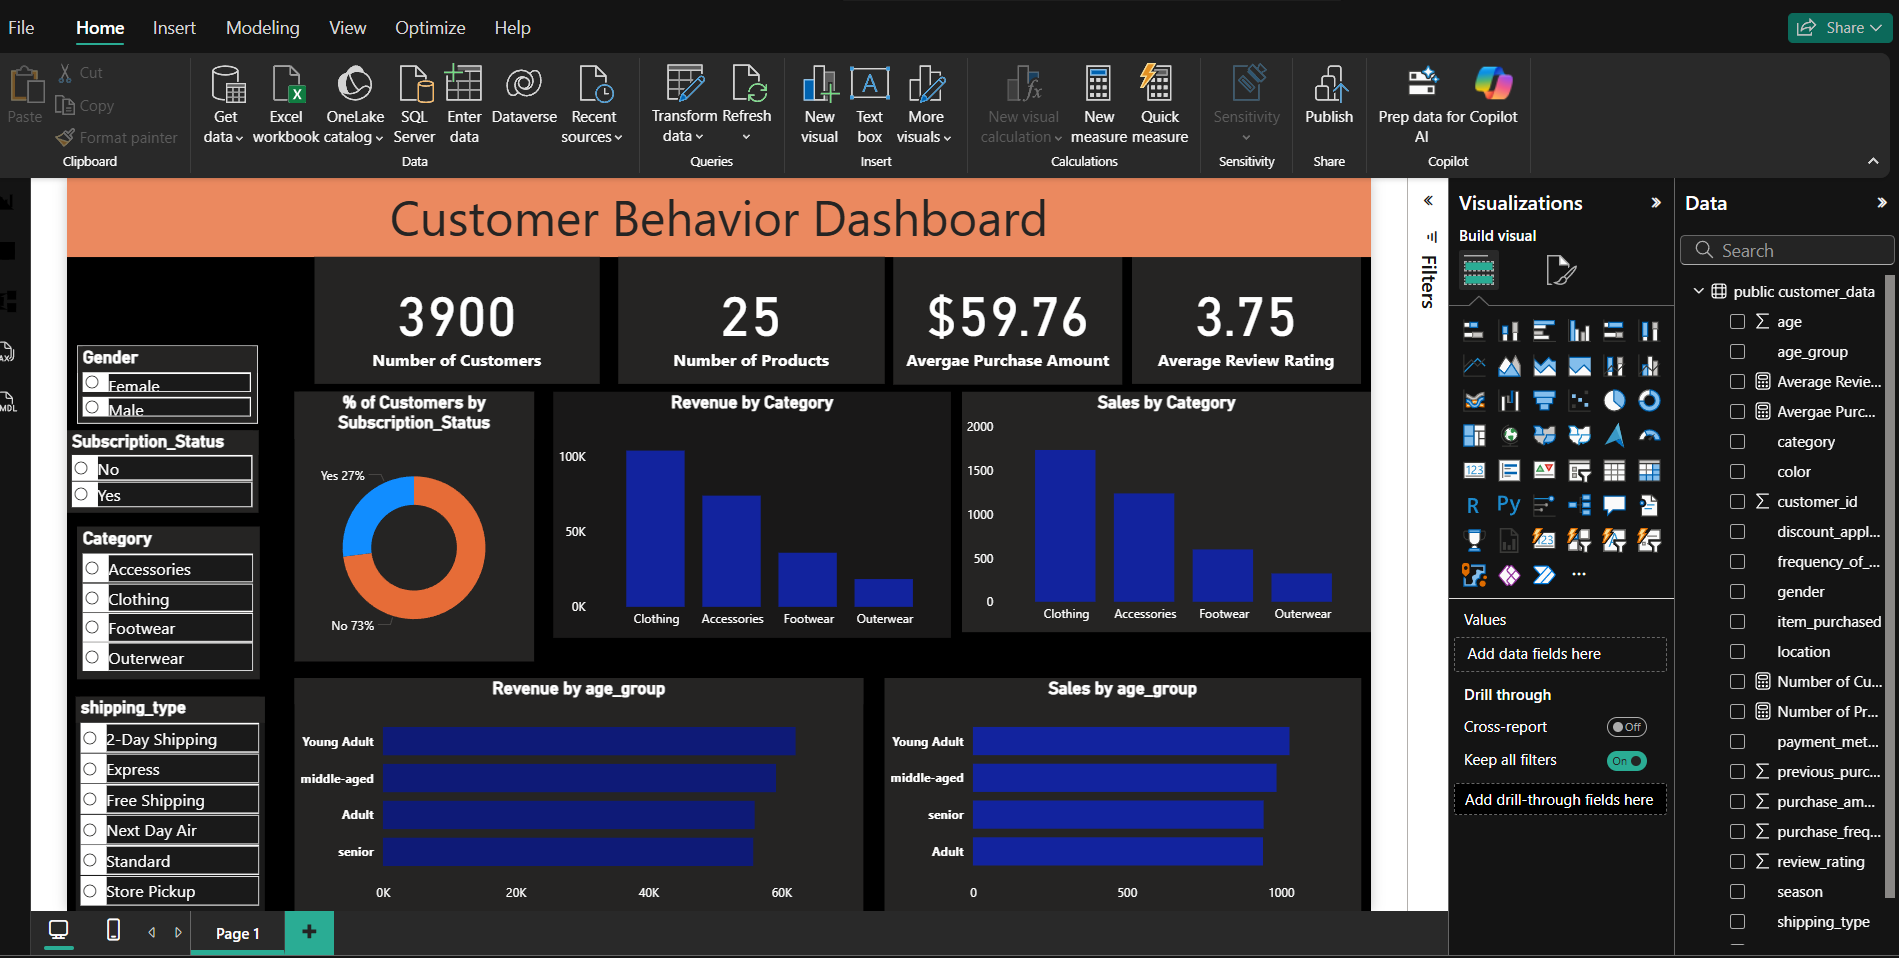

The page's visual inventory and layout, read from the dashboard file:
{"tool":"powerbi","page":{"name":"Page 1","canvas":[1280,720],"ordinal":0},"visuals":[{"type":"card","fields":{"Values":["public customer_data.avergae purchase amount"]},"box":[811.1,77.1,225.2,125.6],"z":0},{"type":"card","fields":{"Values":["public customer_data.average review rating"]},"box":[1045.4,77.3,224.5,125.2],"z":1000},{"type":"columnChart","title":"Revenue by Category","fields":{"Category":["public customer_data.category"],"Y":["Sum(public customer_data.purchase_amount)"]},"box":[477.7,210.2,390.6,241.3],"z":2000},{"type":"columnChart","title":"Sales by Category","fields":{"Category":["public customer_data.category"],"Y":["public customer_data.Number of Customers"]},"box":[878.2,210.2,401.8,236.4],"z":3000},{"type":"barChart","title":"Revenue by age_group","fields":{"Category":["public customer_data.age_group"],"Y":["Sum(public customer_data.purchase_amount)"]},"box":[223.3,490.8,558.3,229.4],"z":4000},{"type":"barChart","title":"Sales by age_group","fields":{"Category":["public customer_data.age_group"],"Y":["public customer_data.Number of Customers"]},"box":[802.4,491.4,467.7,228.9],"z":5000},{"type":"listSlicer","title":"Subscription_Status","fields":{"Values":["public customer_data.subscription_status"]},"box":[0,247.9,187.7,81],"z":6000},{"type":"listSlicer","title":"Gender","fields":{"Values":["public customer_data.gender"]},"box":[10,164.2,177.9,77.1],"z":7000},{"type":"textbox","box":[0,0,1279.8,77.3],"z":8000},{"type":"listSlicer","title":"Category","fields":{"Values":["public customer_data.category"]},"box":[10,342.1,179.1,149.3],"z":9000},{"type":"listSlicer","fields":{"Values":["public customer_data.shipping_type"]},"box":[8.7,508.8,185.3,211.5],"z":10000},{"type":"donutChart","title":"% of  Customers by Subscription_Status","fields":{"Category":["public customer_data.subscription_status"],"Y":["public customer_data.Number of Customers"]},"box":[223.9,210.2,235.1,265],"z":11000},{"type":"card","fields":{"Values":["public customer_data.Number of Customers"]},"box":[242.9,77.3,279.8,125.2],"z":12000},{"type":"card","fields":{"Values":["public customer_data.Number of Products"]},"box":[541.1,77.3,261.4,125.2],"z":13000}]}

Visuals, with their boxes on the page's 1280x720 design canvas (x1, y1, x2, y2). These are canvas units, not pixel positions in the 1899x958 screenshot, which may show the page scaled, cropped or inside an application window:
card - public customer_data.avergae purchase amount: x1=811 y1=77 x2=1036 y2=203
card - public customer_data.average review rating: x1=1045 y1=77 x2=1270 y2=202
"Revenue by Category" columnChart: x1=478 y1=210 x2=868 y2=452
"Sales by Category" columnChart: x1=878 y1=210 x2=1280 y2=447
"Revenue by age_group" barChart: x1=223 y1=491 x2=782 y2=720
"Sales by age_group" barChart: x1=802 y1=491 x2=1270 y2=720
"Subscription_Status" listSlicer: x1=0 y1=248 x2=188 y2=329
"Gender" listSlicer: x1=10 y1=164 x2=188 y2=241
textbox: x1=0 y1=0 x2=1280 y2=77
"Category" listSlicer: x1=10 y1=342 x2=189 y2=491
listSlicer - public customer_data.shipping_type: x1=9 y1=509 x2=194 y2=720
"% of  Customers by Subscription_Status" donutChart: x1=224 y1=210 x2=459 y2=475
card - public customer_data.Number of Customers: x1=243 y1=77 x2=523 y2=202
card - public customer_data.Number of Products: x1=541 y1=77 x2=802 y2=202
